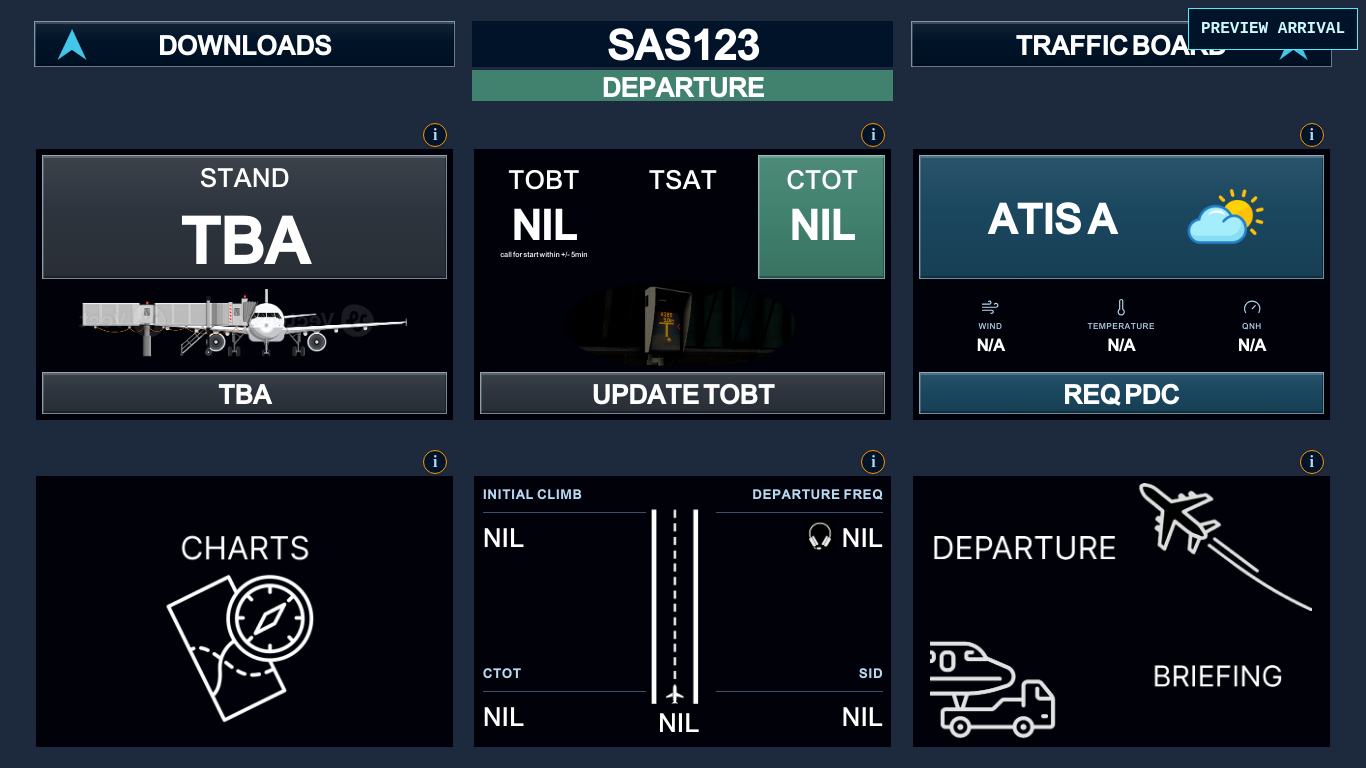
Test: EFB page interactions › blocks PDC mutations with read-only=true and capability=true even if action flags are set
Click the button "REQ PDC" at (1121, 393), box [913,366,1330,420]
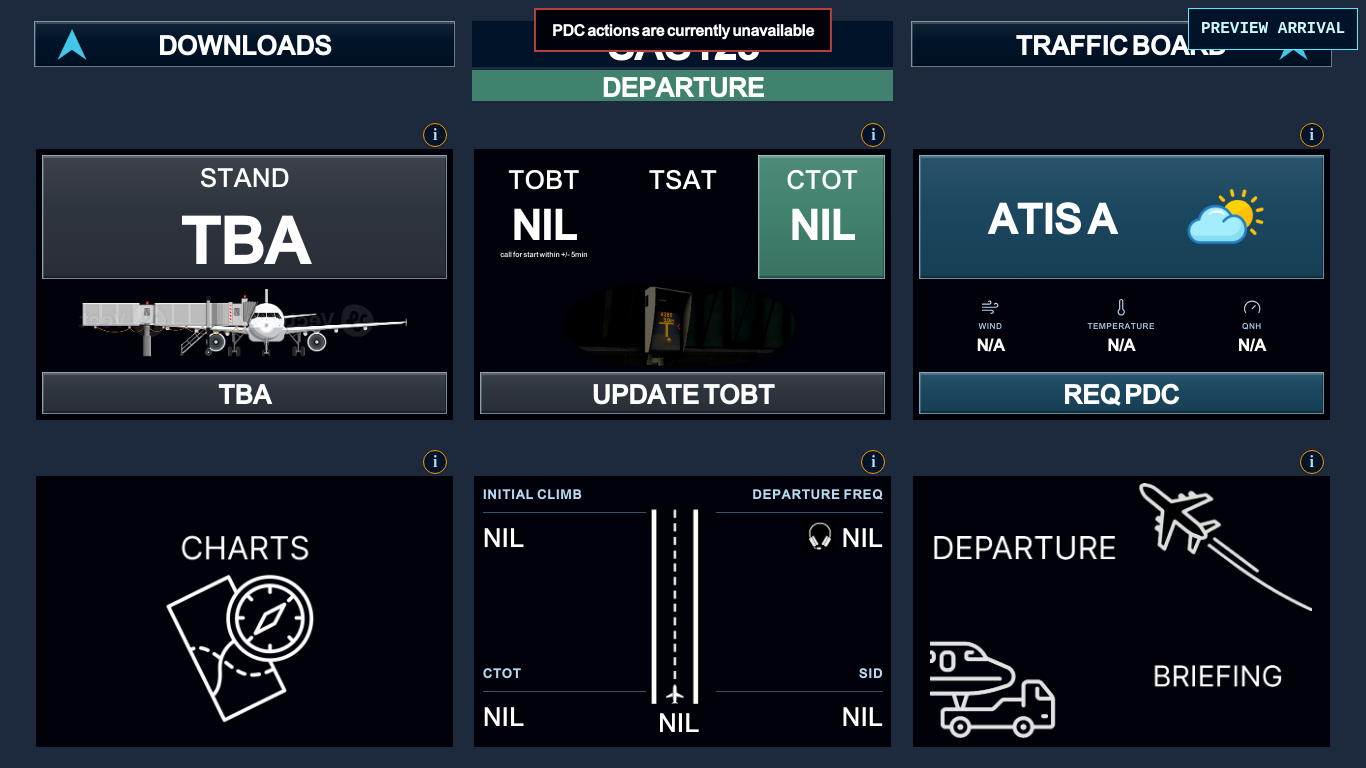
expect the button "PDC actions are currently unavailable" is shown: met, box [534,8,832,52]
